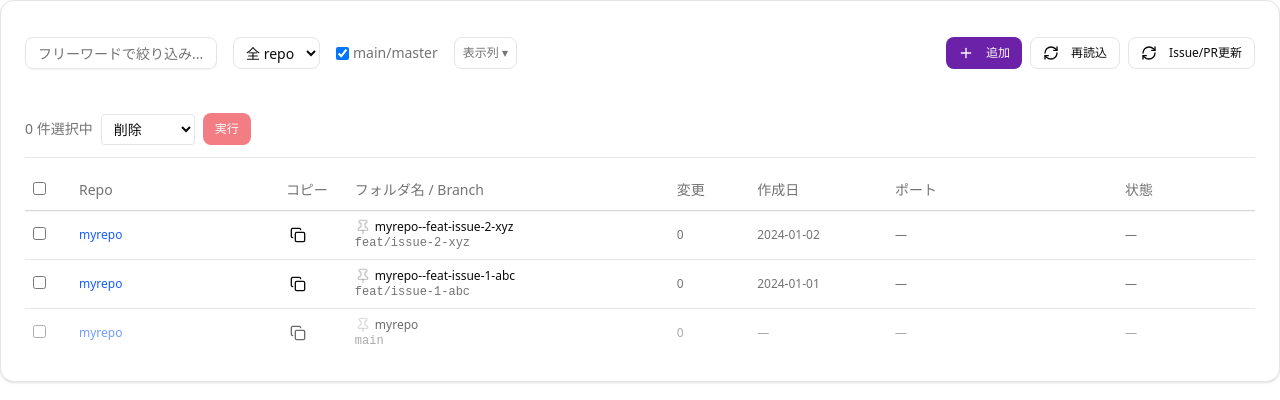
Test: TreesPage - checkbox and bulk action › 一括アクションバーは常時表示で、選択すると実行が有効になる
Expected: the dropdown named "アクション選択" is shown, [101,114,195,144]
Expected: the text "0 件選択中" is shown, [25,119,93,139]
Click the checkbox named "myrepo/myrepo--feat-issue-1-abc を選択": [40, 282] box [33,276,46,288]
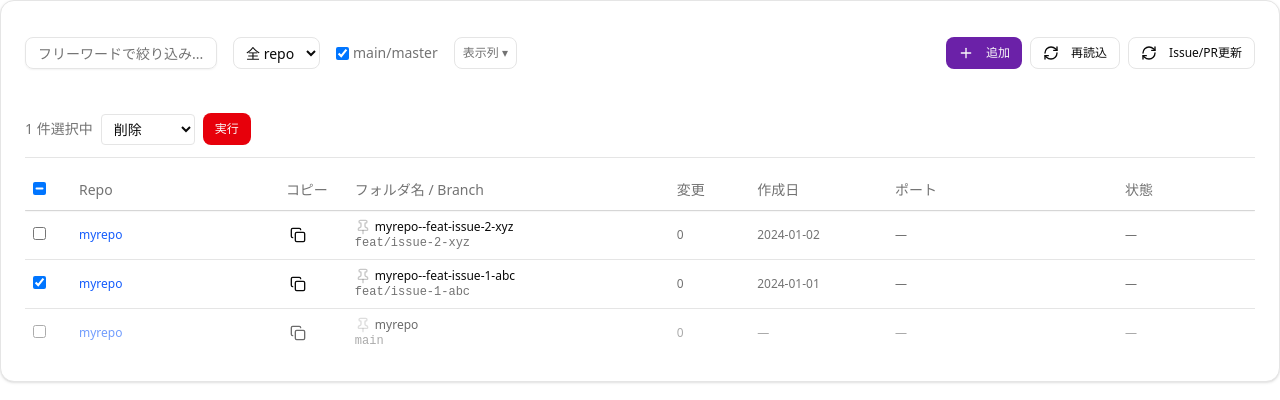
Expected: the text "1 件選択中" is shown, [25,119,93,139]
Expected: the button "実行" is enabled, [203,113,251,145]
